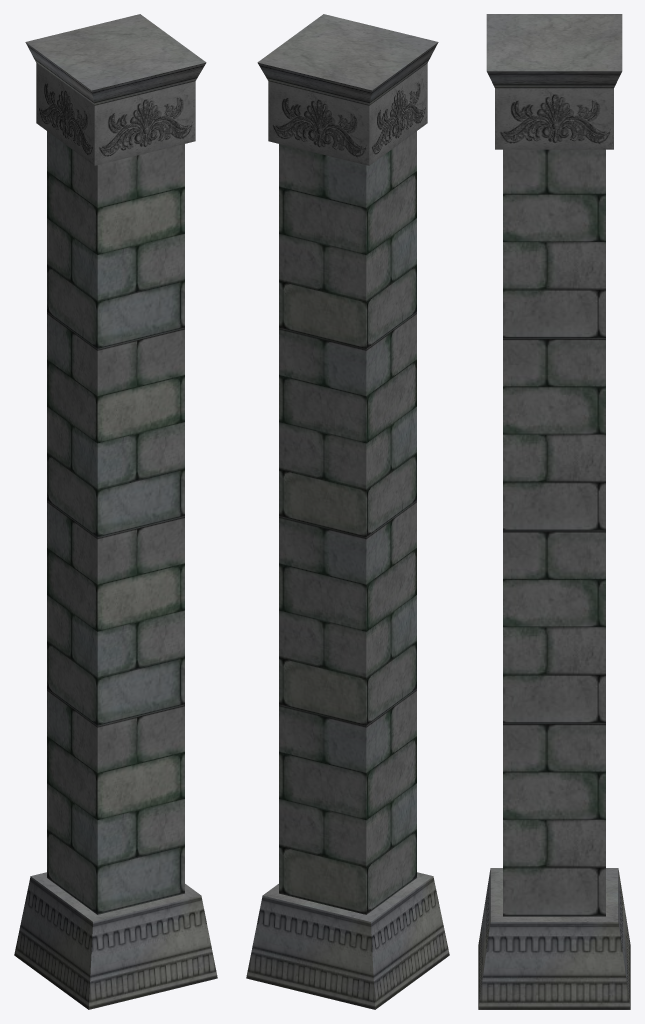
Rendered from pillar_large_02.glb.
3 views of the same model, side by side, from view 1: azimuth 30°, elevation 25°; view 2: azimuth 150°, elevation 25°; view 3: azimuth 270°, elevation 25° (orthographic). The views are drawn at different scales.
Visible parts, largest first — view 1: pillar_large_02; view 2: pillar_large_02; view 3: pillar_large_02.
Boxes of the visible parts, x1=… form: pillar_large_02: x1=14, y1=14, x2=217, y2=1009; pillar_large_02: x1=246, y1=14, x2=449, y2=1009; pillar_large_02: x1=478, y1=14, x2=630, y2=1009.
Size of the model in its own units: 0.8863 by 6 by 0.8863.
Materials: 1 (1 with a texture image).
